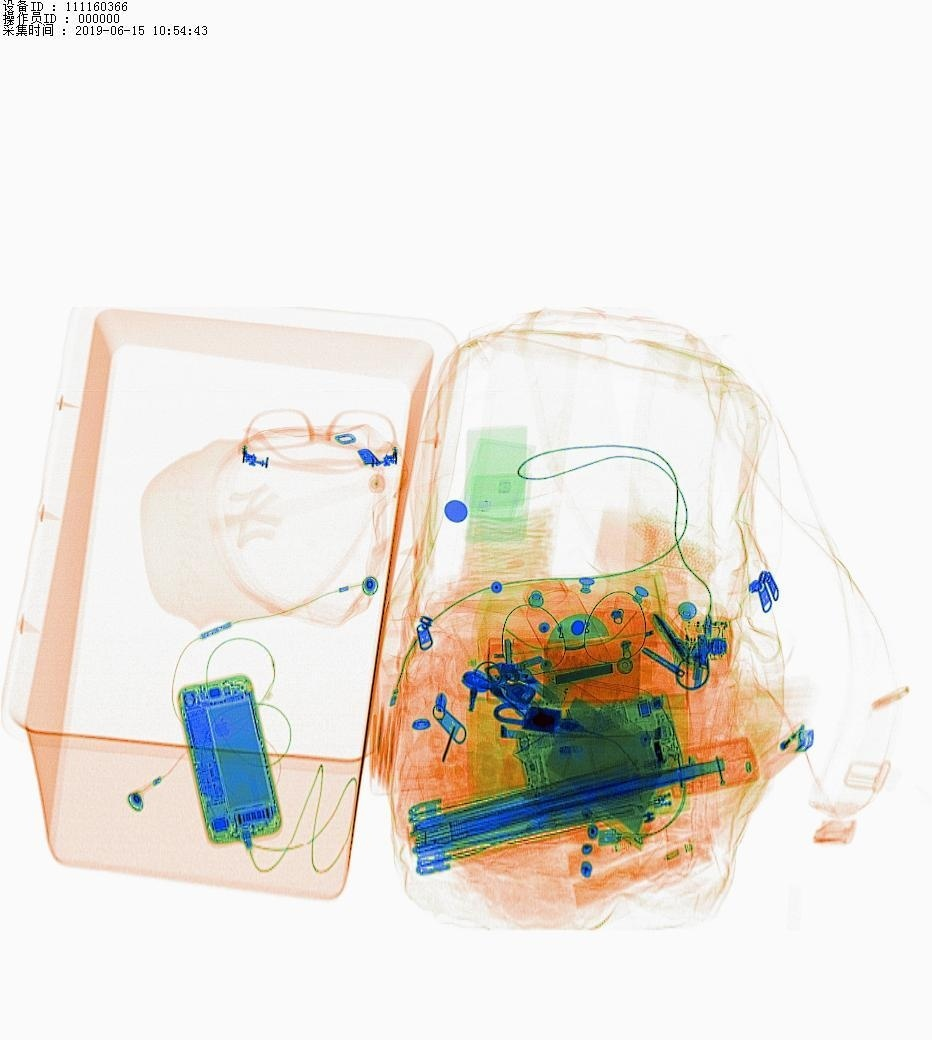NonmetallicFire: (752, 701, 820, 785)
